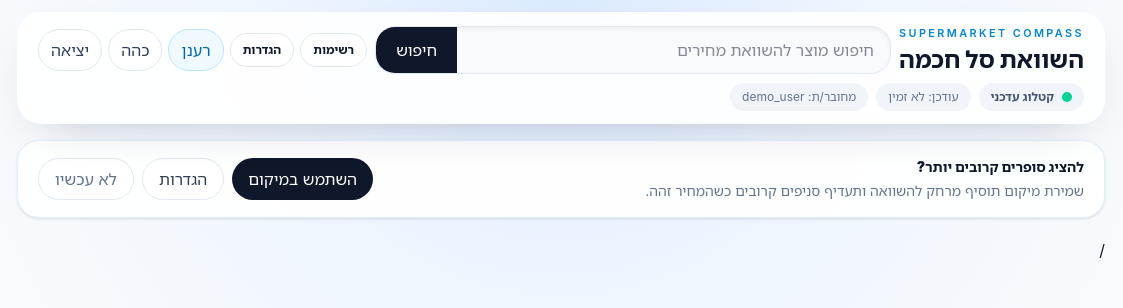
Test: AppShell › hides the location prompt immediately after using current location
Expected: the text "להציג סופרים קרובים יותר?" is shown, [917,158,1084,175]
What coordinates should you click on to do the following:
click the button "השתמש במיקום"
I would click on:
 (303, 179)
Its box is [232,158,373,200].
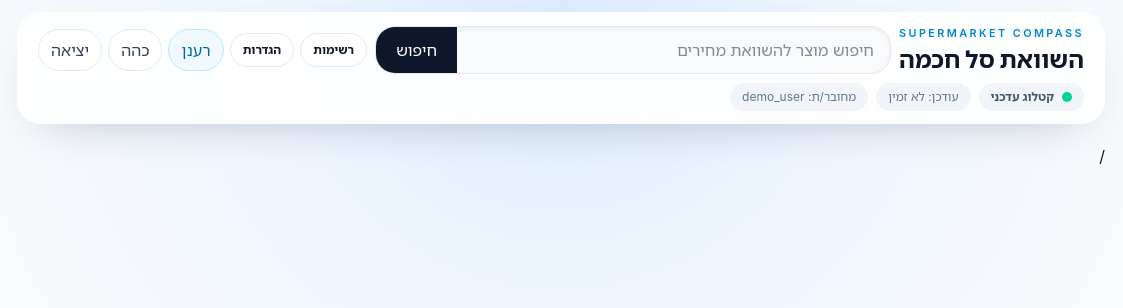
Result: the text "להציג סופרים קרובים יותר?" is gone
